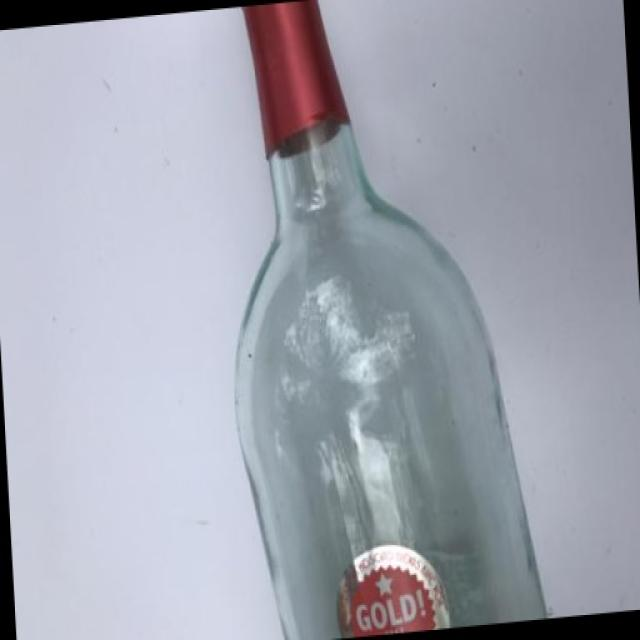vidrio: (184, 0, 569, 640)
